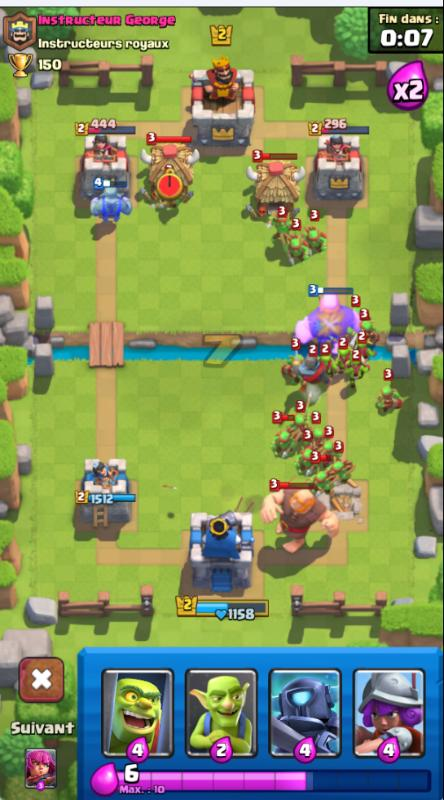chevalier: (299, 353, 328, 394)
geant: (259, 476, 338, 558), (296, 281, 363, 354)
gobelin: (348, 350, 367, 393), (353, 338, 376, 366), (318, 352, 335, 382), (337, 345, 353, 373)
gobelin_lances: (372, 384, 404, 417), (270, 206, 295, 244), (154, 186, 193, 210), (283, 234, 307, 271), (303, 224, 328, 258), (271, 427, 294, 461), (358, 318, 382, 350), (291, 409, 311, 446), (283, 351, 305, 384), (332, 459, 357, 488), (311, 471, 334, 501), (296, 445, 313, 475), (323, 436, 341, 464), (310, 423, 325, 452), (348, 304, 364, 321)
